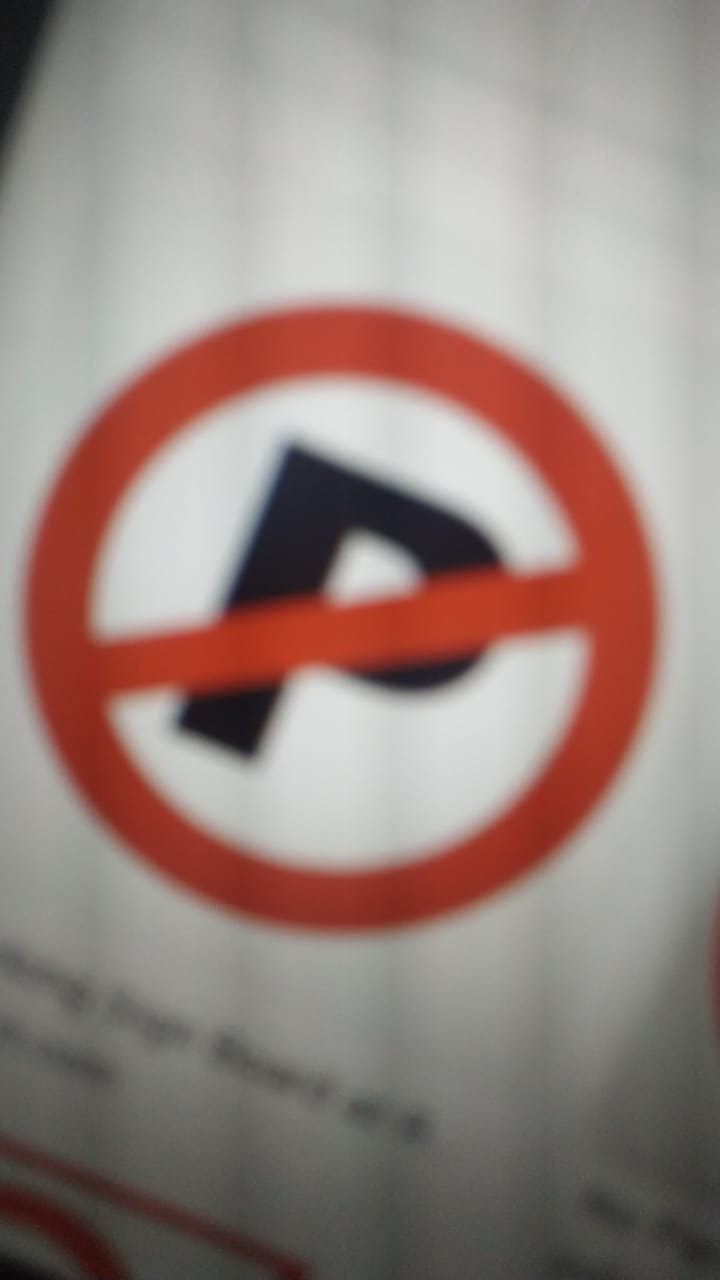NO PARKING: (31, 292, 671, 973)
